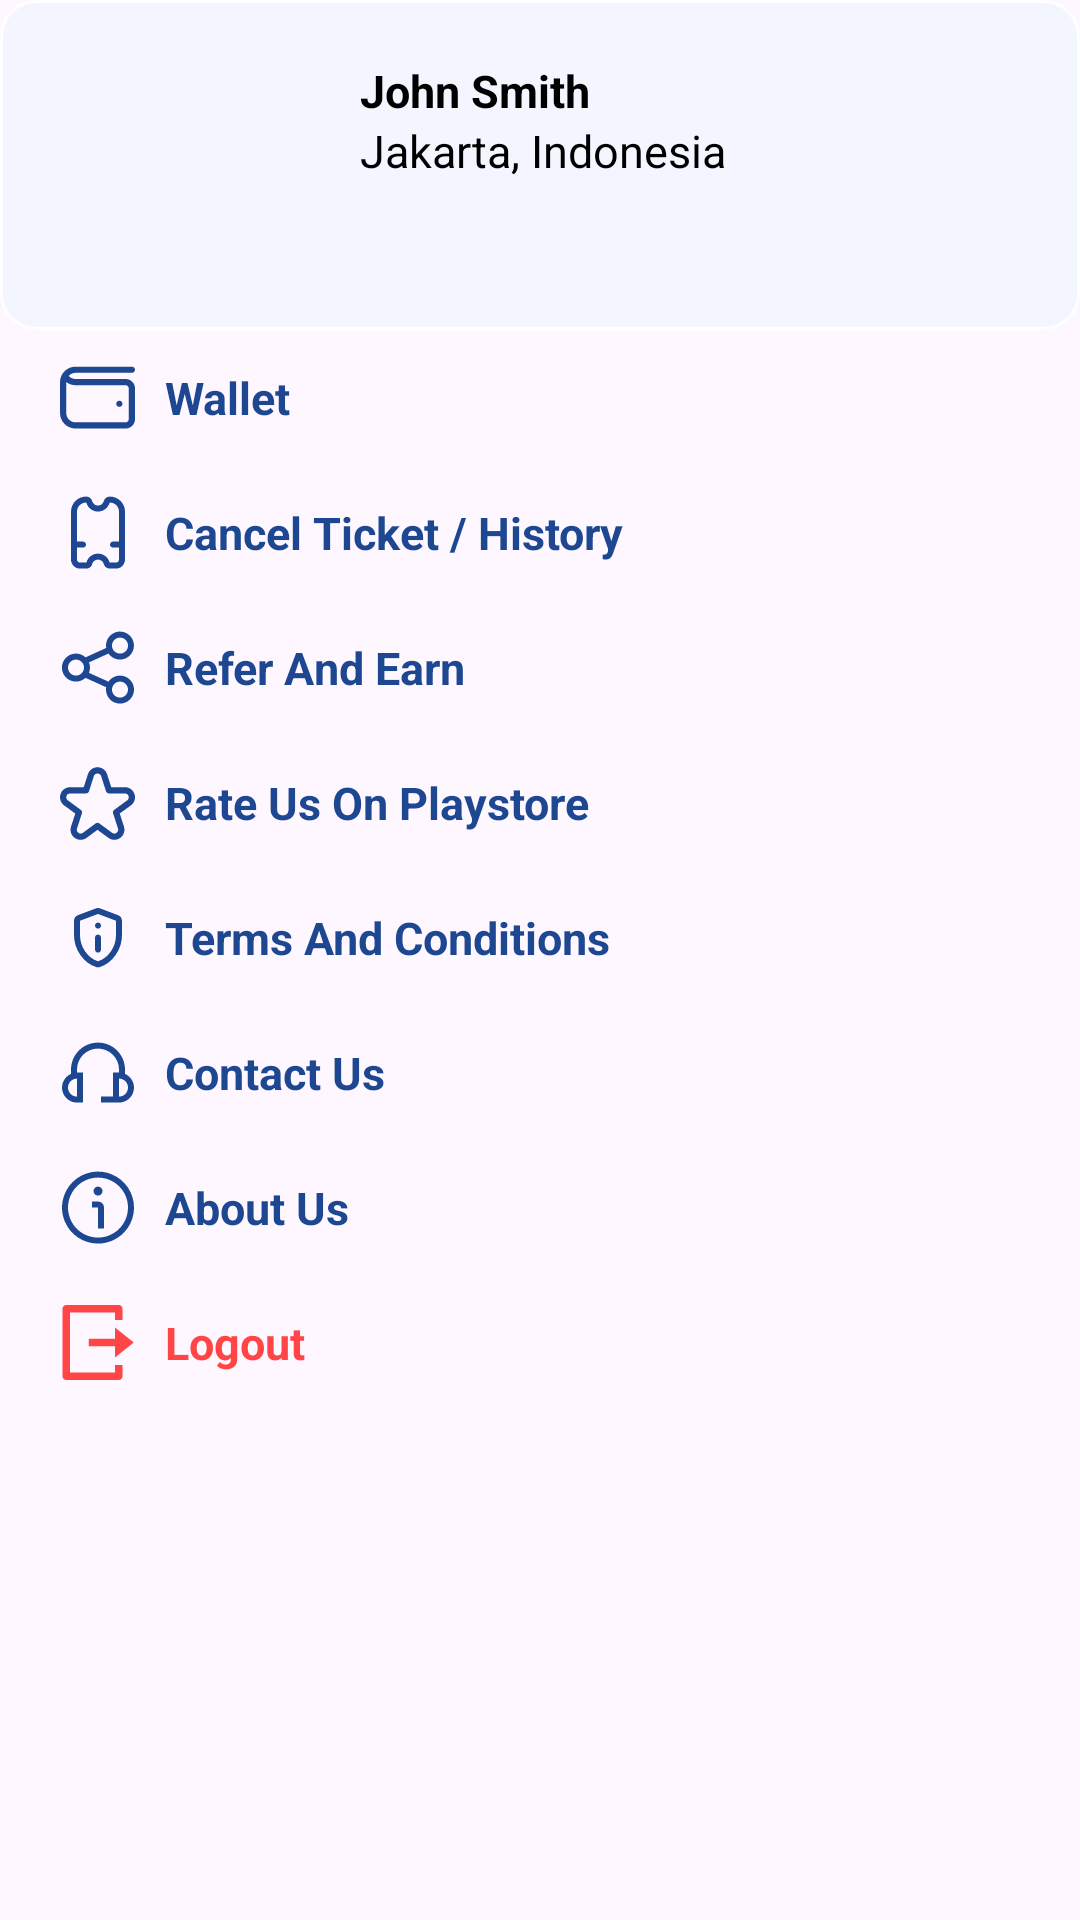

Named icons in this screenshot (1080px×1920px) and their bounding boxes, (x1, y1, x2, y2):
hadset: (62, 1042, 134, 1103)
